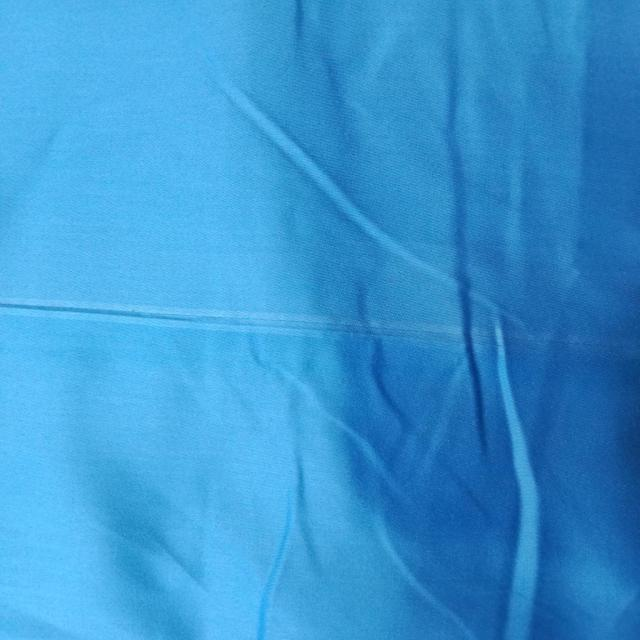selvet: (457, 312, 546, 637), (0, 286, 446, 348)
